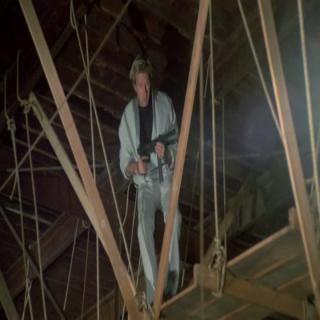gun: (132, 116, 178, 197)
